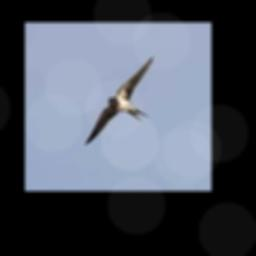Swallow: (85, 56, 155, 146)
